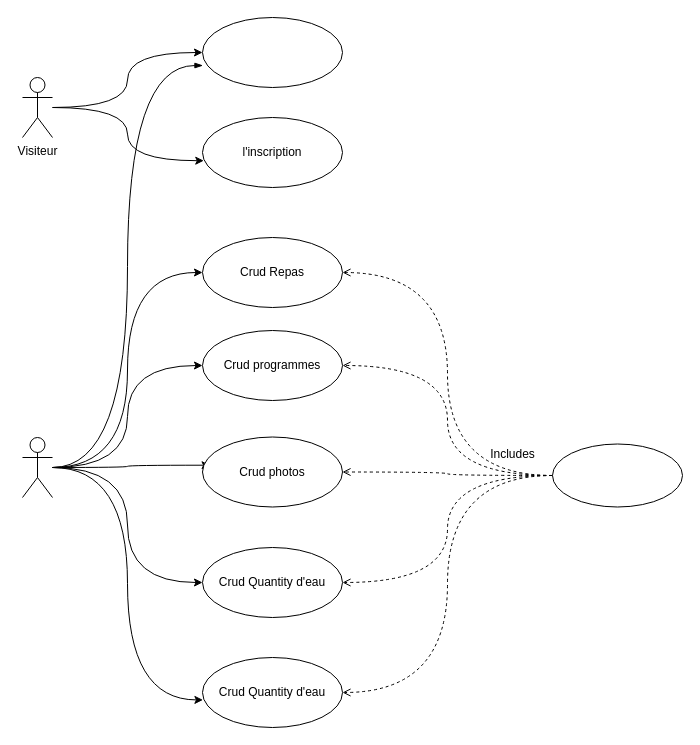
The diagram is 700 pixels wide and 745 high, and some of its shapes have lost their labels. The centre of each missing label's shape, as x and y in pixels:
"auth" belongs at point (617, 475).
"Consulter l'activité de app" belongs at point (272, 52).
"User" belongs at point (37, 467).
